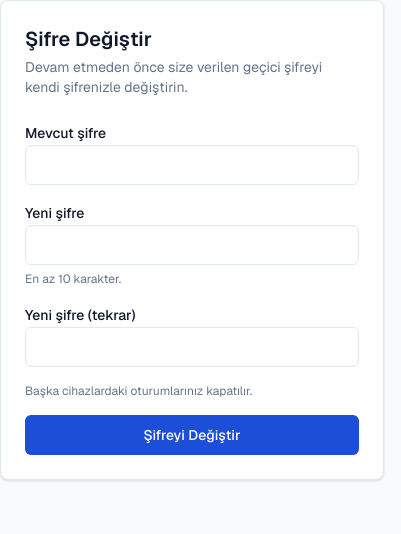
ChangePasswordForm › shows the reason the API gives in Turkish and stays
In the password field labelled "Mevcut şifre": (192, 165) [25,145,359,185], type "Wrong-Password-1"
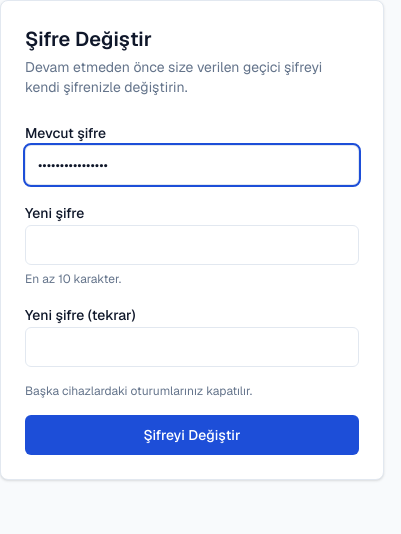
In the password field labelled "Yeni şifre": (192, 245) [25,225,359,265], type "My-Own-Password-1"
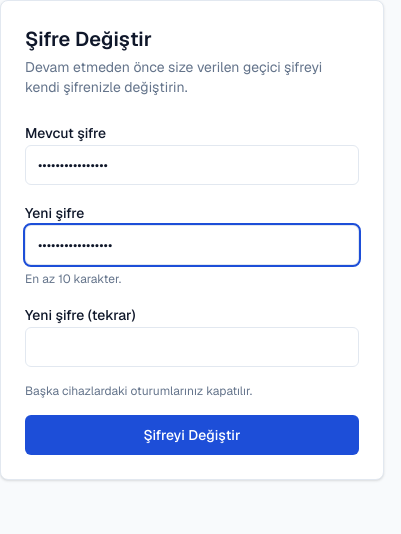
In the password field labelled "Yeni şifre (tekrar)": (192, 347) [25,327,359,367], type "My-Own-Password-1"
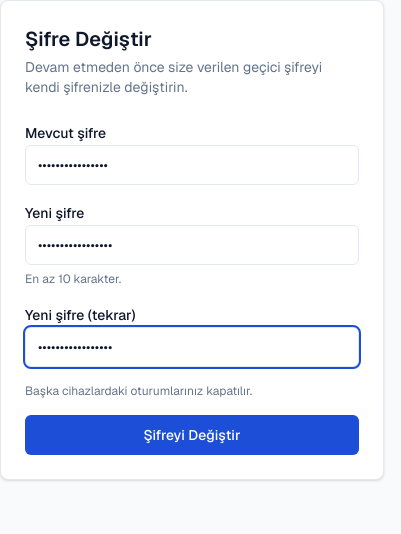
Click the button "Şifreyi Değiştir": (192, 435) [25,415,359,455]
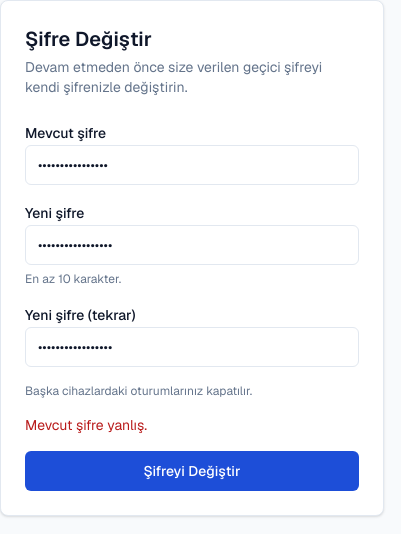
Check: the message reads "Mevcut şifre yanlış.", box [25,416,147,434]
